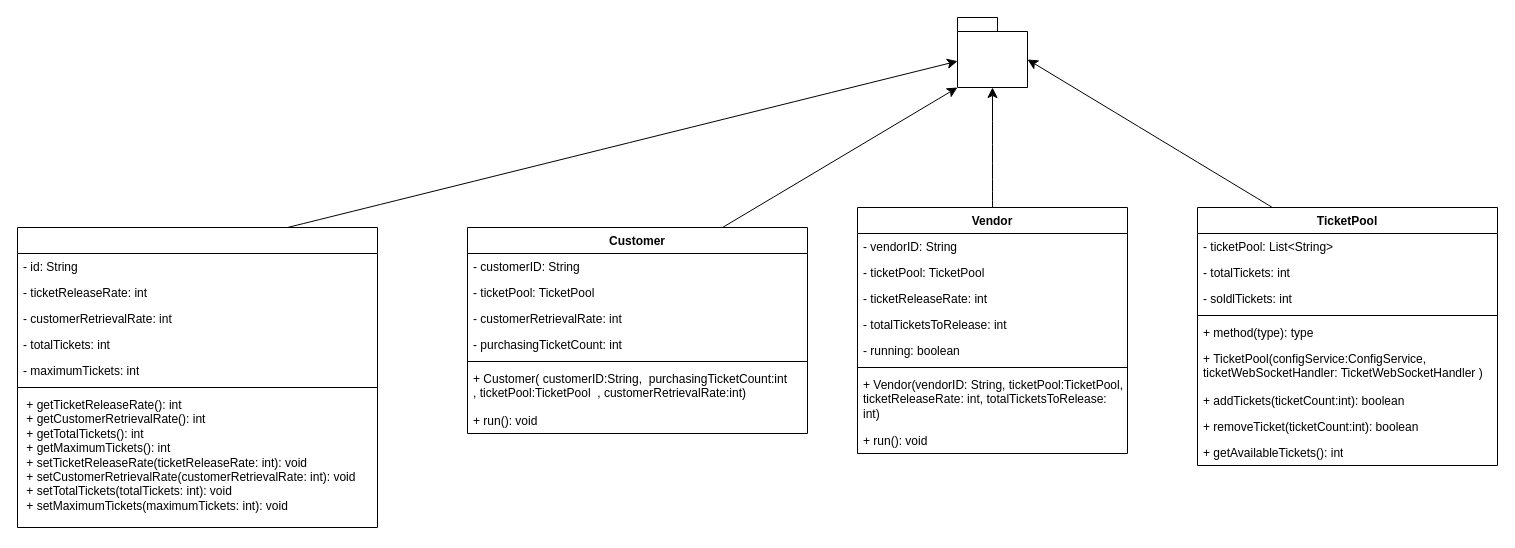
Some shapes in this 1515 by 548 pixel diagram are drawn without their labels. Each missing label, with the box of its shape:
Config: (16, 226, 378, 528)
Model: (956, 16, 1028, 88)
